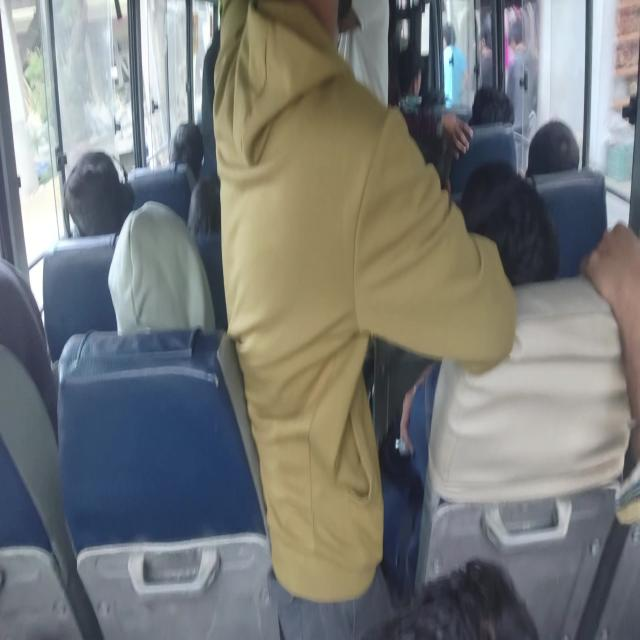person: (210, 0, 394, 600), (100, 212, 210, 343), (376, 557, 538, 640), (0, 275, 50, 467), (458, 170, 542, 274), (56, 162, 127, 245), (527, 118, 588, 192), (472, 66, 523, 146), (188, 177, 238, 234), (170, 120, 212, 177), (399, 55, 421, 103)
